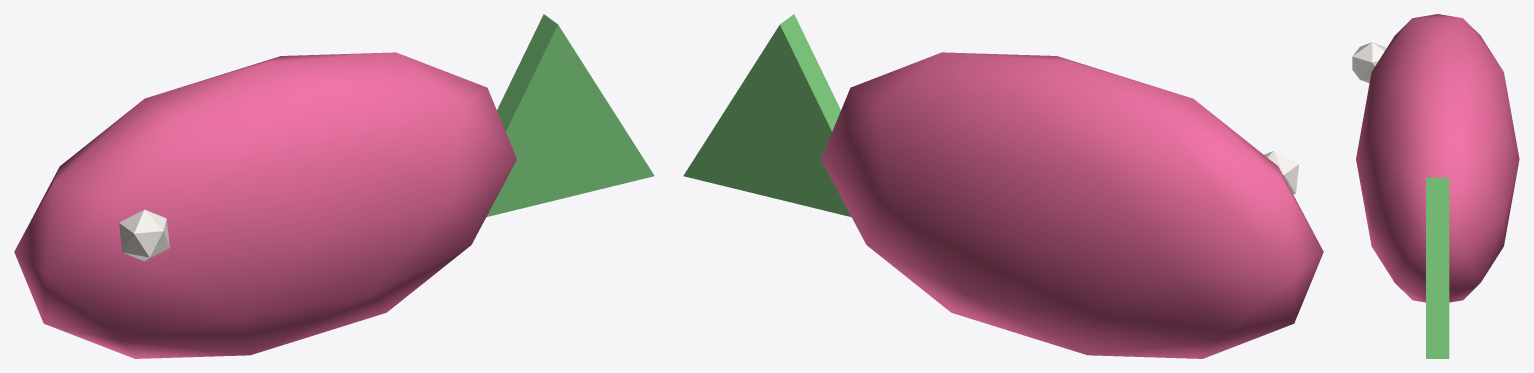
File: Bait_Fish.fbx
The picture shows the model from 3 angles, left to right: view 1: azimuth 30°, elevation 25°; view 2: azimuth 150°, elevation 25°; view 3: azimuth 270°, elevation 25°; orthographic projection. The views are drawn at different scales.
Visible parts, largest first — view 1: Bait.001, BaitAccent.001, Stone.001; view 2: Bait.001, BaitAccent.001, Stone.001; view 3: Bait.001, BaitAccent.001, Stone.001.
Boxes of the visible parts, x1,y1,x2,y2 form: Bait.001: (14,52,516,358); BaitAccent.001: (486,14,654,216); Stone.001: (119,209,169,261); Bait.001: (821,52,1323,358); BaitAccent.001: (683,14,851,216); Stone.001: (1264,151,1298,194); Bait.001: (1356,14,1519,302); BaitAccent.001: (1426,177,1449,358); Stone.001: (1352,42,1385,83).
Bounding box in the file's own units: 2.49 × 1.1 × 0.7151.
